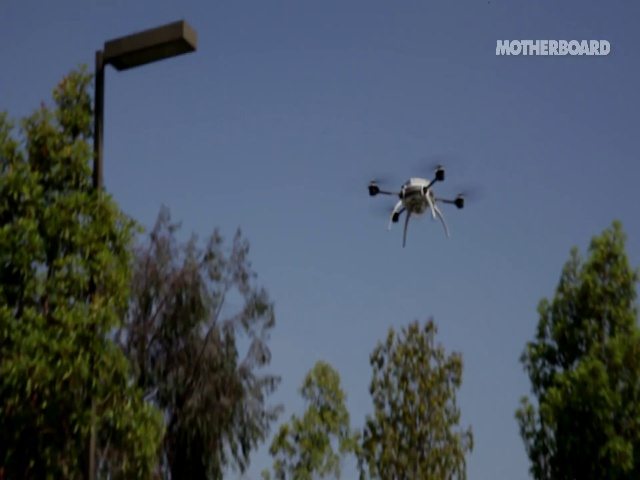drone: (358, 151, 490, 251)
